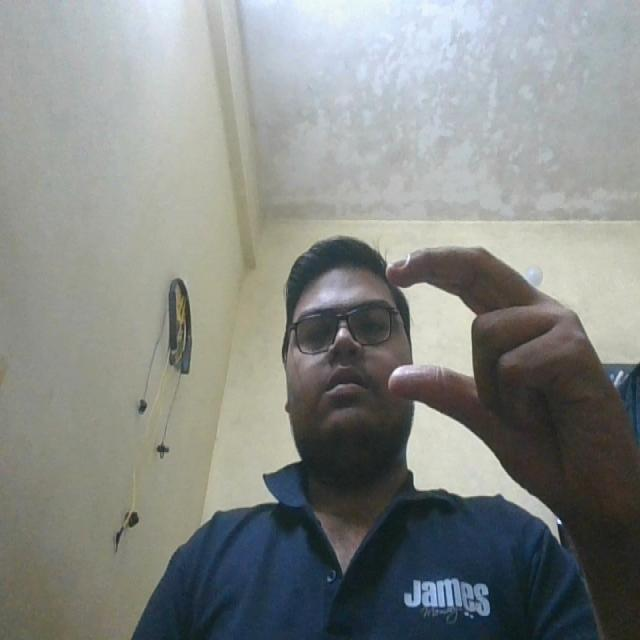No: (365, 202, 627, 508)
